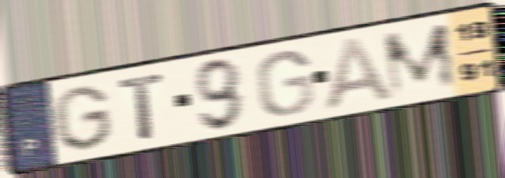9: (193, 56, 247, 133)
A: (322, 35, 399, 113)
G: (49, 83, 115, 153), (254, 47, 316, 118)
M: (379, 19, 461, 102)
T: (116, 69, 168, 142)
